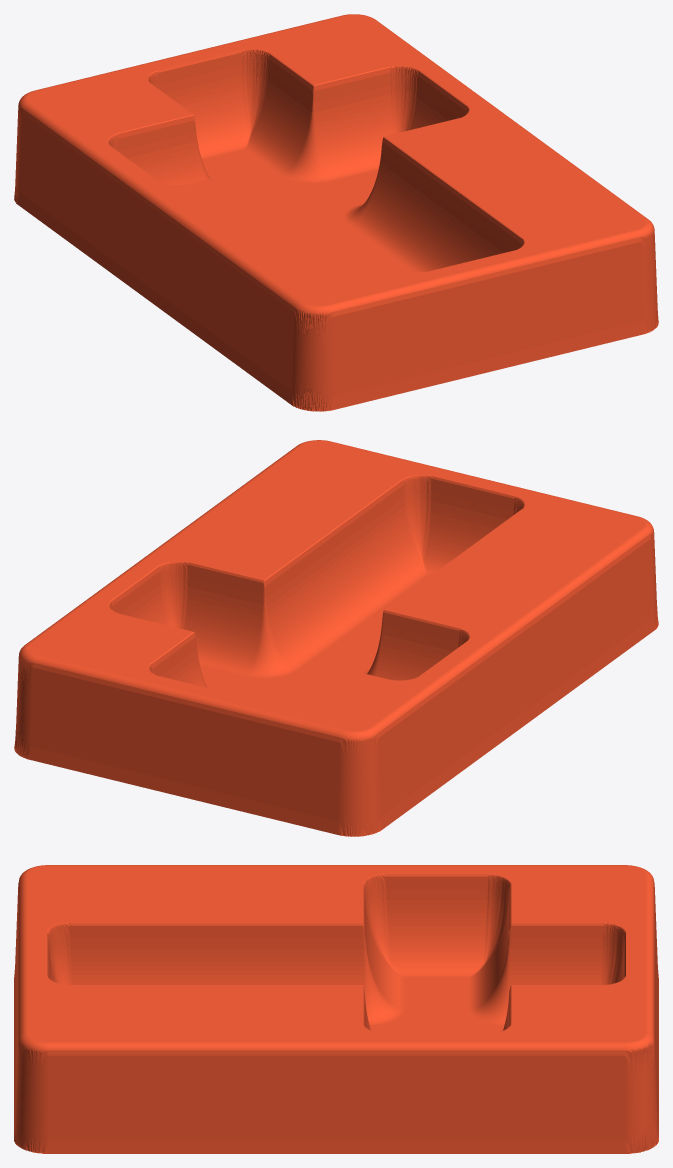
File: mold.glb
The picture shows the model from 3 angles, top to bottom: view 1: azimuth 30°, elevation 25°; view 2: azimuth 150°, elevation 25°; view 3: azimuth 270°, elevation 25°; orthographic projection. The views are drawn at different scales.
Parts seen in each view (by area): view 1: geometry_0; view 2: geometry_0; view 3: geometry_0.
Part boxes in pixels (left/top/right/bottom): geometry_0: left=14, top=14, right=658, bottom=411; geometry_0: left=14, top=440, right=658, bottom=836; geometry_0: left=14, top=865, right=658, bottom=1153.
Size of the model in its own units: 0.1177 by 0.031 by 0.1709.
